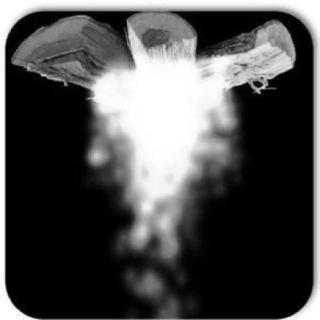Fire: (33, 54, 276, 316)
